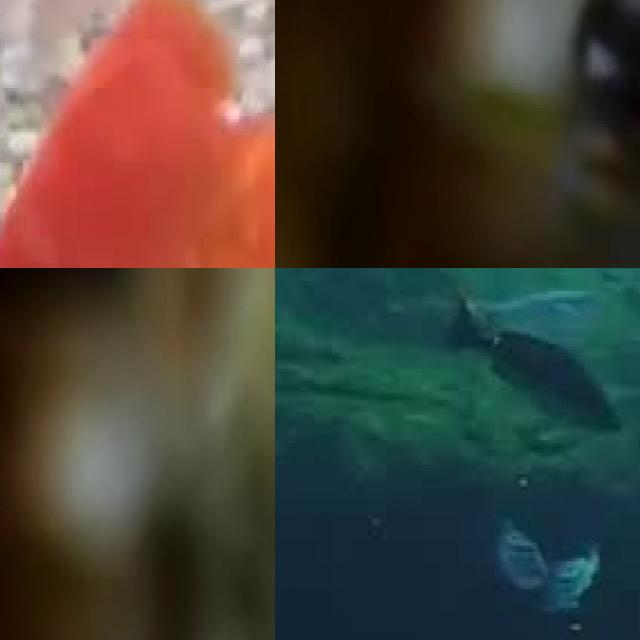fish: (0, 0, 275, 268), (0, 268, 275, 347)
